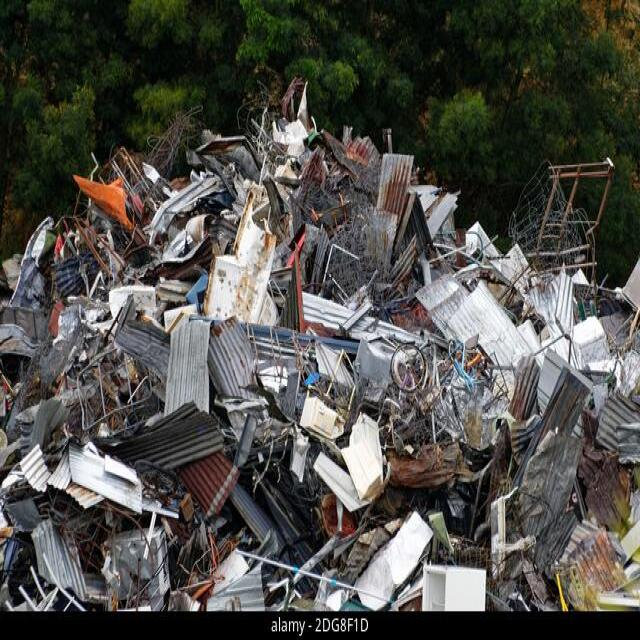metal: (9, 146, 588, 593)
